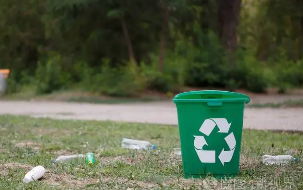garbage: (258, 150, 303, 168), (23, 161, 56, 185), (114, 137, 163, 152), (77, 151, 106, 172), (170, 141, 185, 161)
